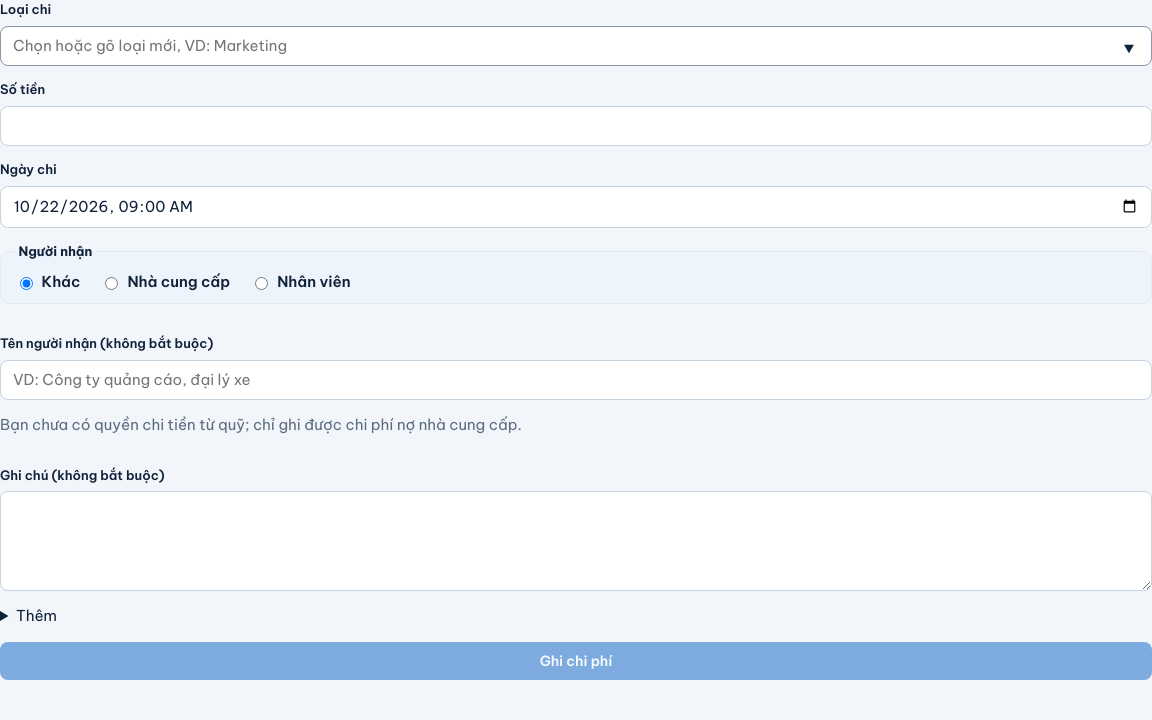
Test case: without the right to pay from a fund, only a supplier debt can be recorded
Check: the button "Ghi chi phí" is disabled, box [0,642,1151,680]
Check: the text "chưa có quyền chi tiền" is shown, box [0,415,522,434]
Click the radio button labelled "Nhà cung cấp".
click(112, 284)  # box [105,277,118,290]
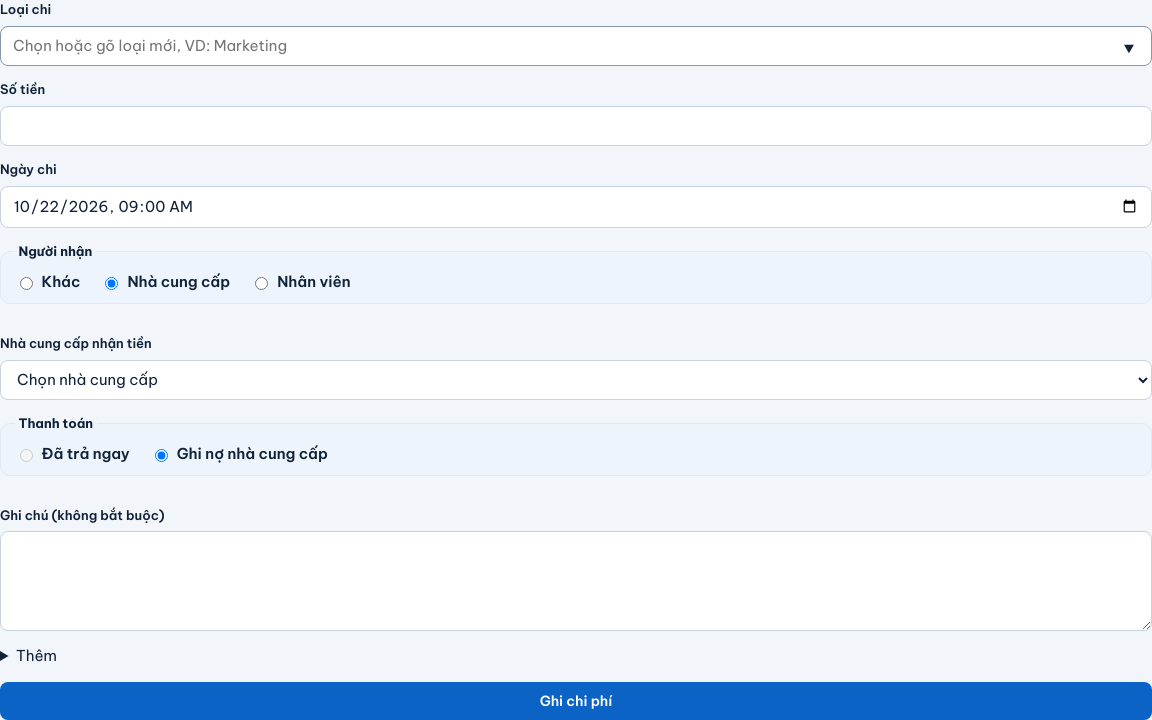
Check: the radio button labelled "Đã trả ngay" is disabled, box [20,449,33,462]
Check: the radio button labelled "Ghi nợ nhà cung cấp" is checked, box [155,449,168,462]
Check: the button "Ghi chi phí" is enabled, box [0,682,1151,719]
